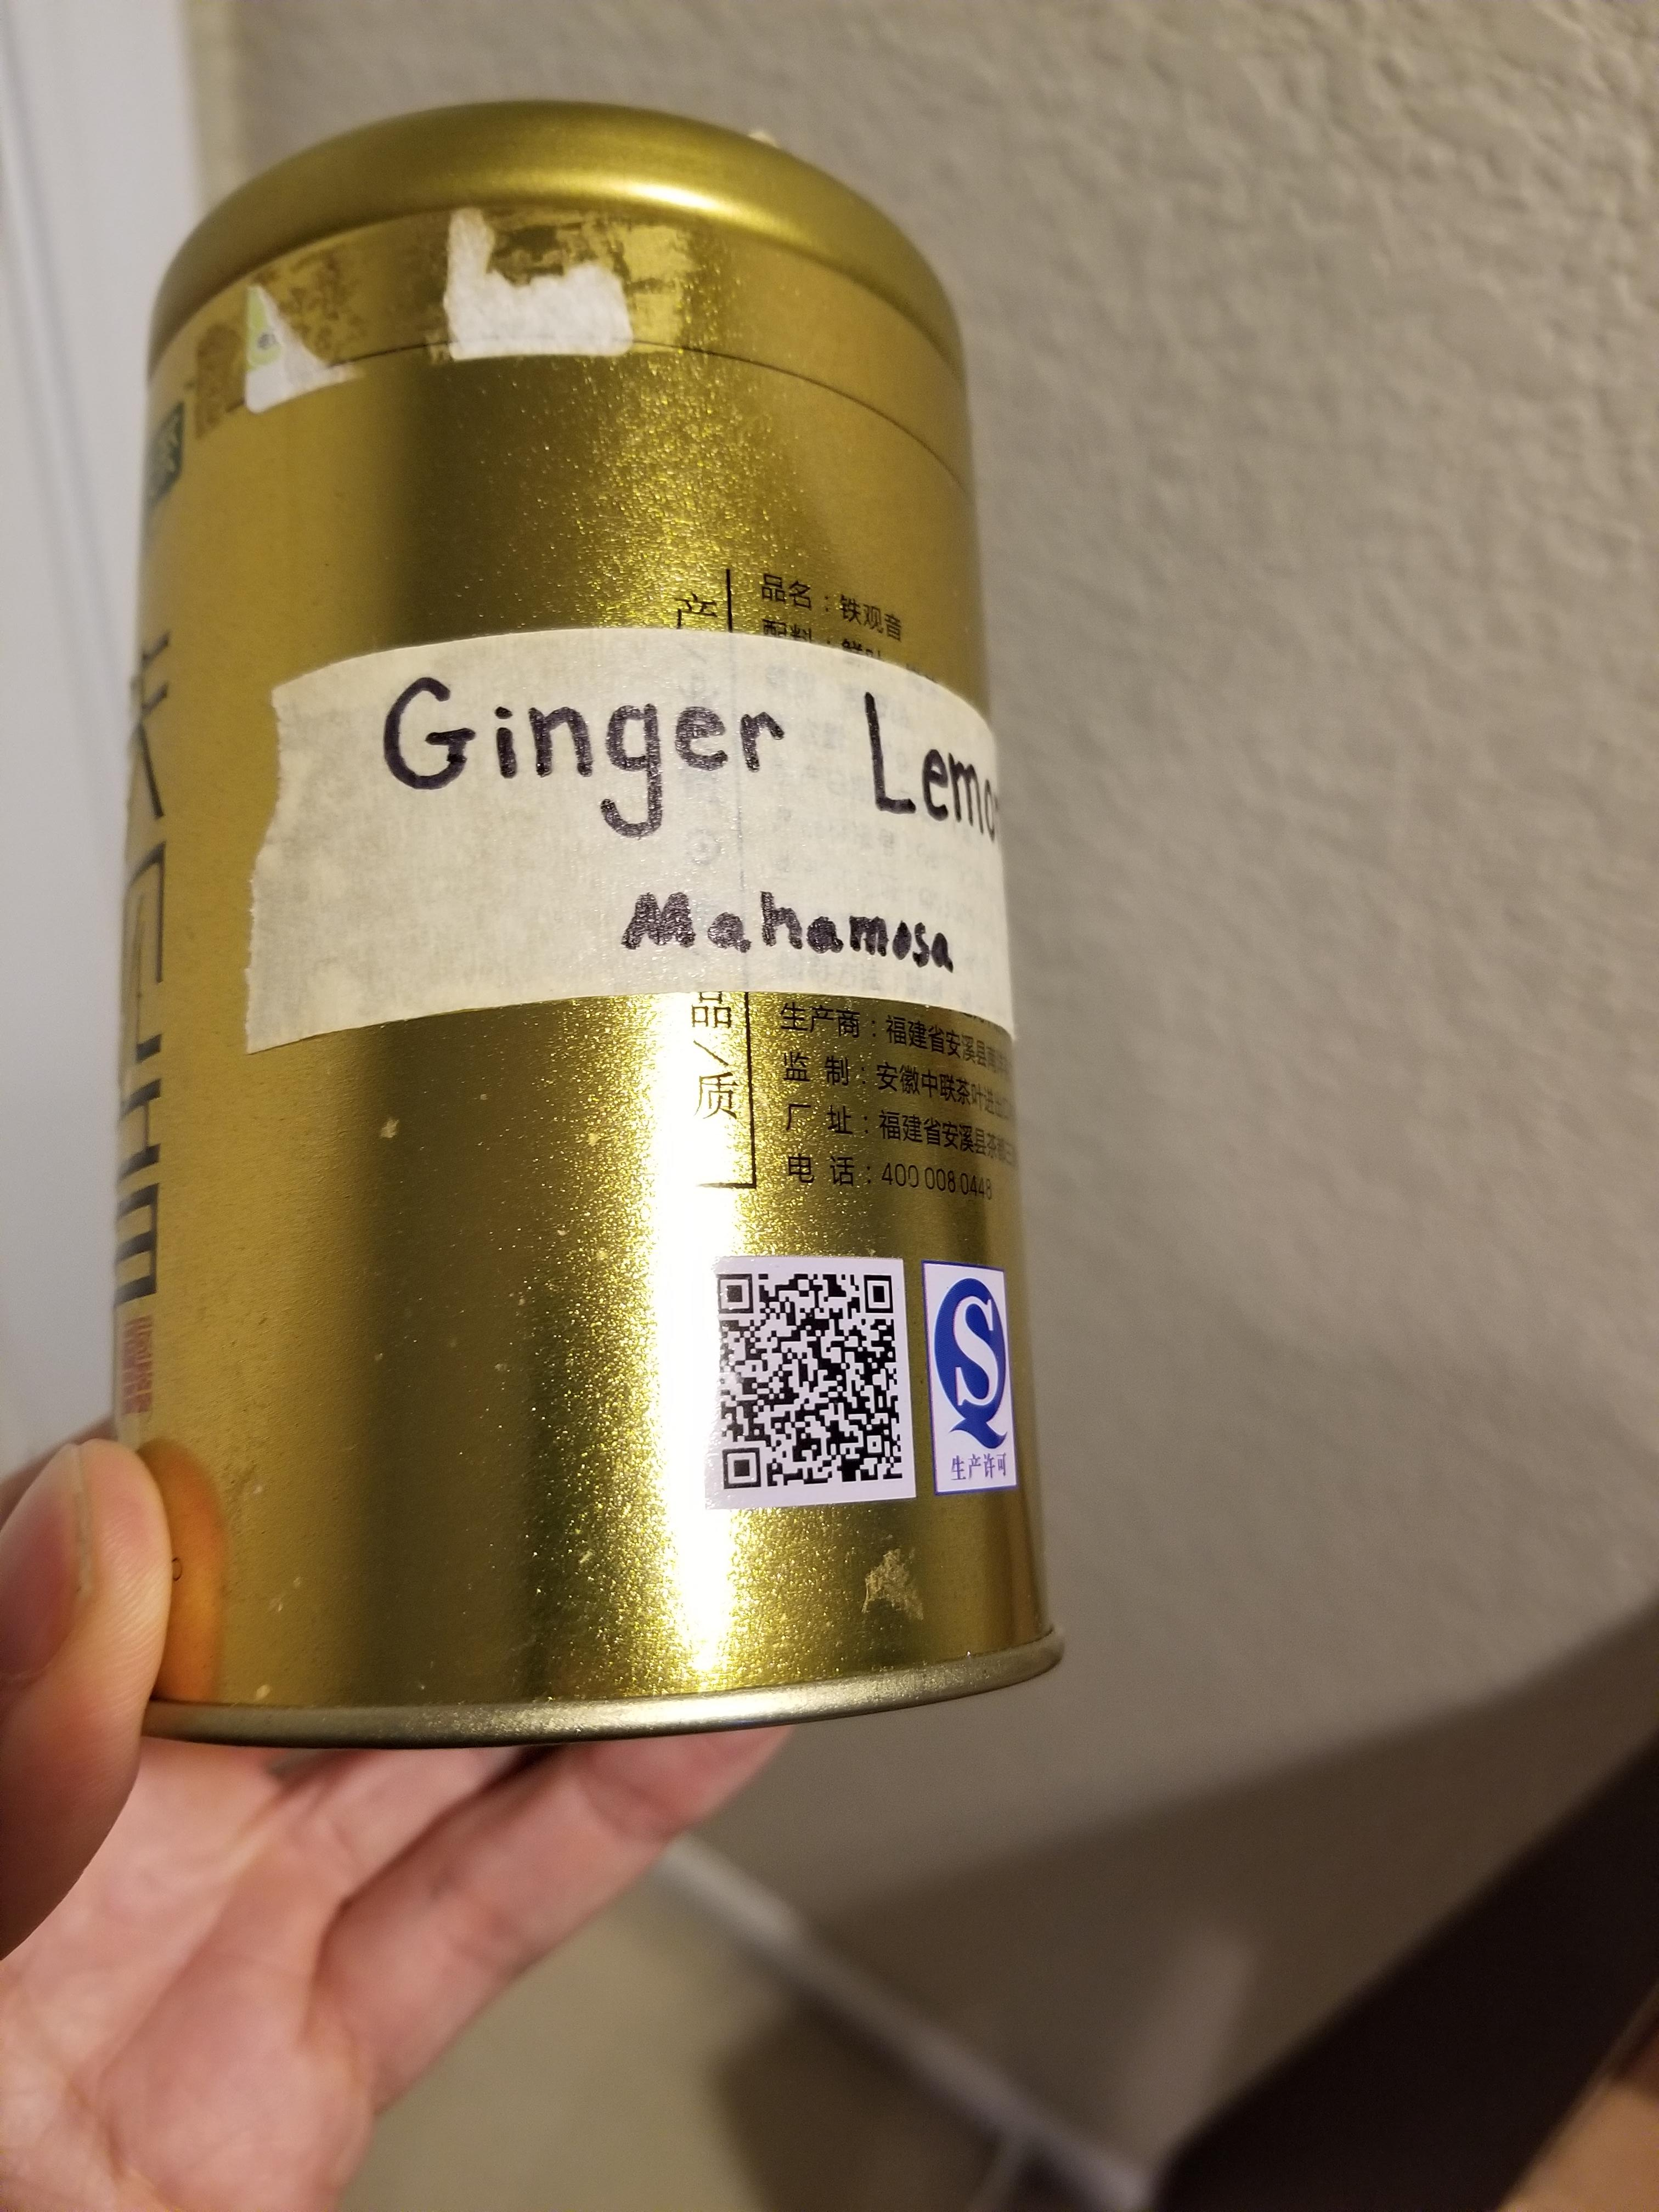QR_CODE: (690, 1223, 941, 1526)
